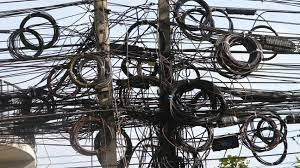wires-only: (169, 0, 300, 168), (0, 0, 101, 167), (109, 0, 159, 167)
